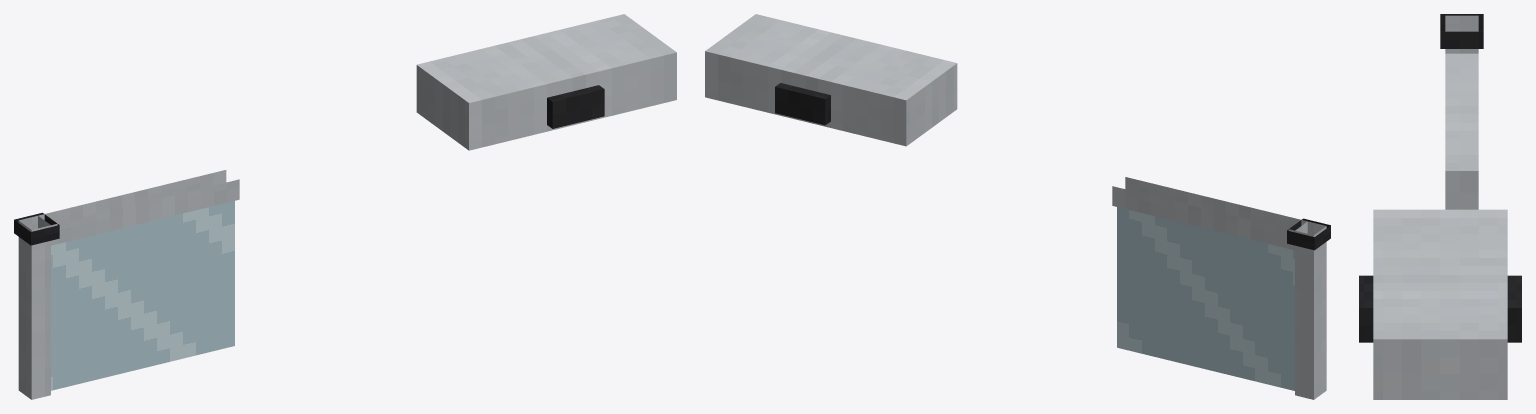
File: auto_door_wide_slider_clear_c0_upper_left_open.obj
The picture shows the model from 3 angles, left to right: view 1: azimuth 30°, elevation 25°; view 2: azimuth 150°, elevation 25°; view 3: azimuth 270°, elevation 25°; orthographic projection. The views are drawn at different scales.
Parts seen in each view (by area): view 1: auto_door_wide_slider_clear_c0_upper_left_open; view 2: auto_door_wide_slider_clear_c0_upper_left_open; view 3: auto_door_wide_slider_clear_c0_upper_left_open.
Boxes of the visible parts, <box> form: auto_door_wide_slider_clear_c0_upper_left_open: <box>14,14,676,399</box>; auto_door_wide_slider_clear_c0_upper_left_open: <box>705,14,1330,399</box>; auto_door_wide_slider_clear_c0_upper_left_open: <box>1359,14,1521,399</box>.
Size of the model in its own units: 2.98 by 1 by 0.5312.
